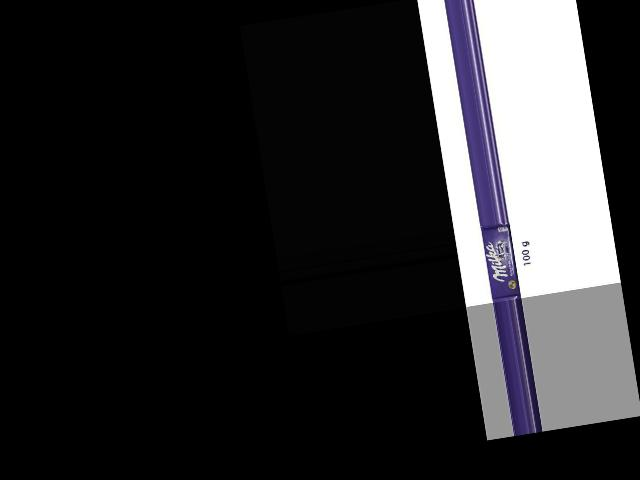chocolate: (479, 219, 526, 300)
